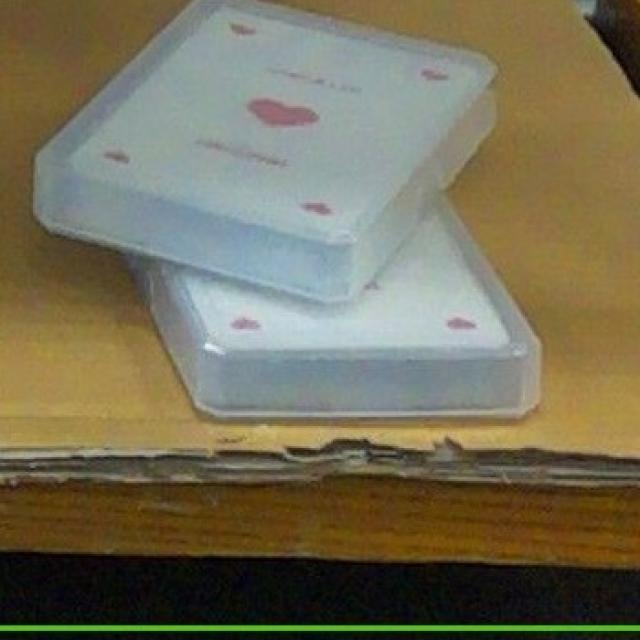Jasskarte: (35, 0, 496, 302), (133, 201, 539, 417)
